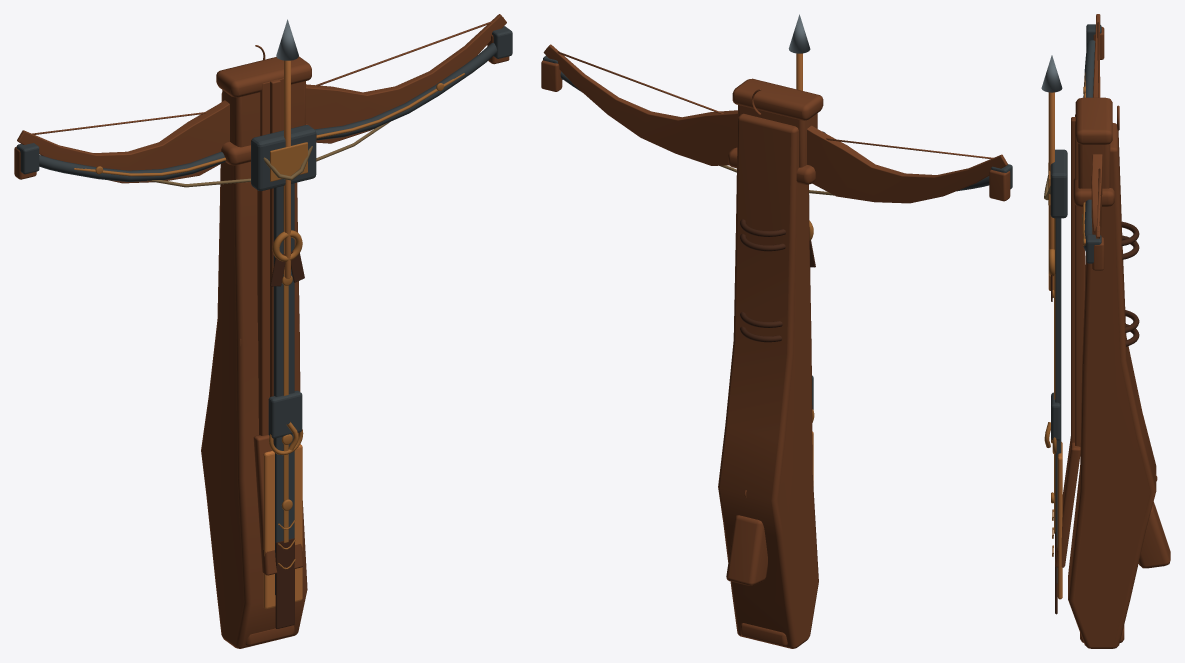
File: CrossBow_Detailed.fbx
3 views of the same model, side by side, from view 1: azimuth 30°, elevation 25°; view 2: azimuth 150°, elevation 25°; view 3: azimuth 270°, elevation 25° (orthographic). The views are drawn at different scales.
Parts seen in each view (by area): view 1: PZC_CrossBow_Base, Rail_BlackenedIron, Stock_Cheek_Panel, Forged_Riser, Reinforced_Limb_R, Reinforced_Limb_L, Stock_Grip_Panel, Trigger_Housing, Rail_Bronze_Inlay, Loaded_Bolt_Shaft, Riser_Faceplate; view 2: PZC_CrossBow_Base; view 3: PZC_CrossBow_Base, Rail_BlackenedIron, Forged_Riser, Stock_Cheek_Panel, Loaded_Bolt_Shaft, Reinforced_Limb_L, Rail_Bronze_Inlay, Loaded_Bolt_Head, Trigger_Housing, Limb_Tip_Cap_R, Reinforced_Limb_R, Leather_Binding_12.75 (+1 smaller).
Boxes of the visible parts, x1,y1,x2,y2 form: PZC_CrossBow_Base: (14, 14, 509, 648); Rail_BlackenedIron: (273, 183, 294, 594); Stock_Cheek_Panel: (263, 444, 302, 609); Forged_Riser: (251, 125, 316, 191); Reinforced_Limb_R: (314, 43, 497, 140); Reinforced_Limb_L: (39, 151, 225, 181); Stock_Grip_Panel: (275, 538, 294, 628); Trigger_Housing: (268, 390, 302, 438); Rail_Bronze_Inlay: (283, 186, 288, 542); Loaded_Bolt_Shaft: (284, 60, 290, 278); Riser_Faceplate: (270, 142, 307, 181); PZC_CrossBow_Base: (541, 44, 1010, 648); PZC_CrossBow_Base: (1055, 14, 1170, 648); Rail_BlackenedIron: (1055, 218, 1061, 583); Forged_Riser: (1050, 149, 1067, 218); Stock_Cheek_Panel: (1057, 442, 1062, 599); Loaded_Bolt_Shaft: (1048, 92, 1054, 290); Reinforced_Limb_L: (1083, 40, 1095, 97); Rail_Bronze_Inlay: (1054, 218, 1055, 533); Loaded_Bolt_Head: (1041, 55, 1062, 92); Trigger_Housing: (1051, 392, 1060, 440); Limb_Tip_Cap_R: (1086, 234, 1101, 263); Reinforced_Limb_R: (1083, 199, 1092, 251); Leather_Binding_12.75: (1121, 221, 1139, 246).
Size of the model in its own units: 1871 by 2328 by 467.
